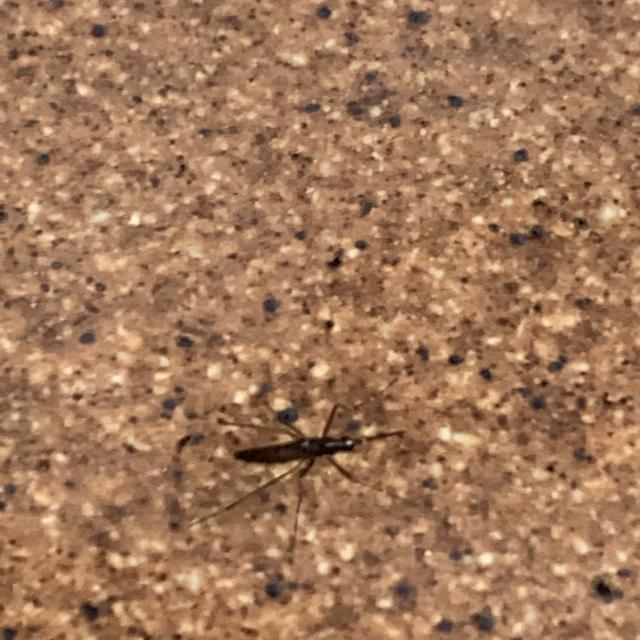albopictus: (170, 389, 420, 547)
